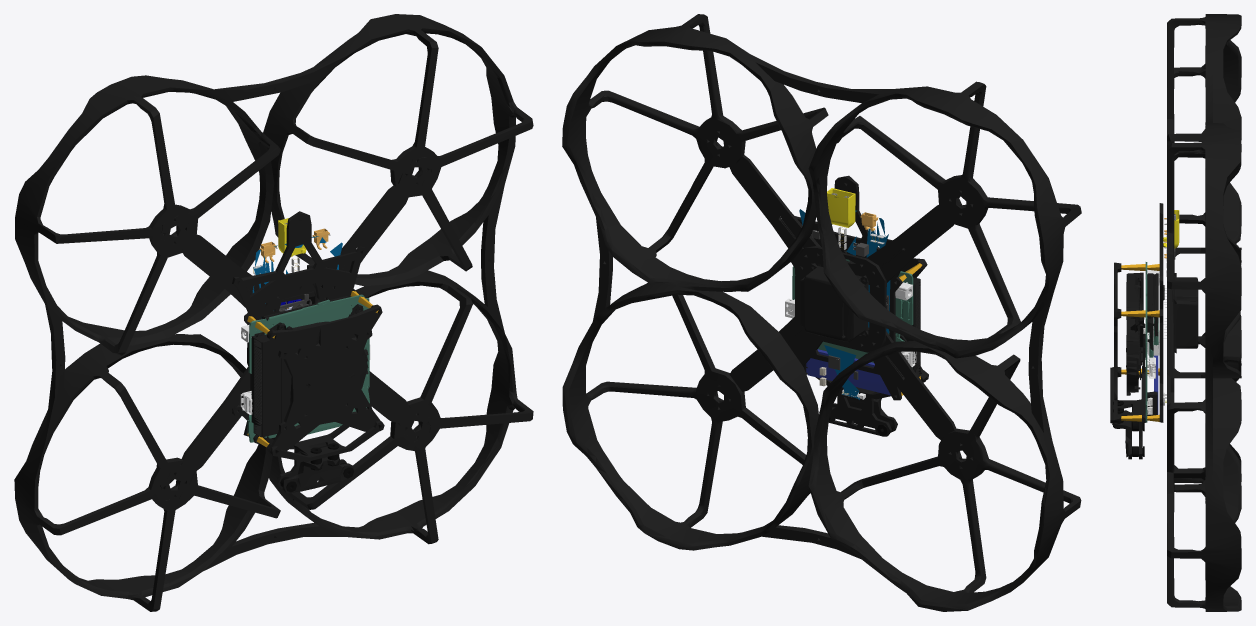
The model's file is chassi_lr7pro_lowpoly.obj.
3 views of the same model, side by side, from view 1: azimuth 30°, elevation 25°; view 2: azimuth 150°, elevation 25°; view 3: azimuth 270°, elevation 25° (orthographic). The views are drawn at different scales.
Visible parts, largest first — view 1: part_1, part_0, part_4, part_3; view 2: part_1, part_0, part_30, part_7, part_3, part_34; view 3: part_1, part_4, part_0, part_5, part_2, part_3, part_8, part_10, part_34.
Part boxes in pixels (bbox=[...]): part_1: bbox=[14, 14, 533, 611]; part_0: bbox=[160, 157, 431, 499]; part_4: bbox=[251, 304, 368, 437]; part_3: bbox=[247, 294, 369, 442]; part_1: bbox=[562, 14, 1081, 611]; part_0: bbox=[715, 138, 965, 460]; part_30: bbox=[799, 209, 890, 399]; part_7: bbox=[806, 349, 890, 395]; part_3: bbox=[792, 259, 913, 368]; part_34: bbox=[827, 188, 855, 227]; part_1: bbox=[1110, 14, 1241, 611]; part_4: bbox=[1126, 272, 1145, 395]; part_0: bbox=[1159, 203, 1170, 422]; part_5: bbox=[1147, 273, 1158, 415]; part_2: bbox=[1121, 264, 1159, 421]; part_3: bbox=[1145, 262, 1158, 422]; part_8: bbox=[1147, 270, 1159, 378]; part_10: bbox=[1113, 400, 1144, 457]; part_34: bbox=[1163, 210, 1179, 248].
Bounding box in the file's own units: 42.28 × 42.3 × 10.82.
